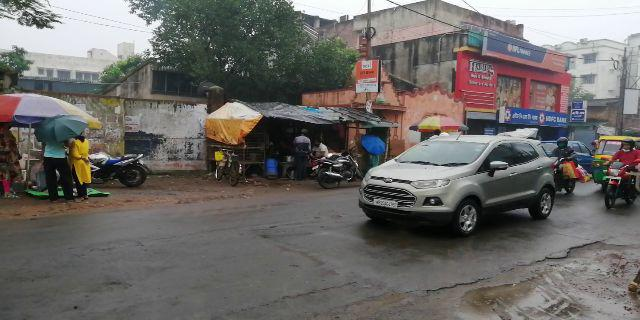Car: (360, 135, 556, 239)
Motorbike: (601, 141, 639, 209)
